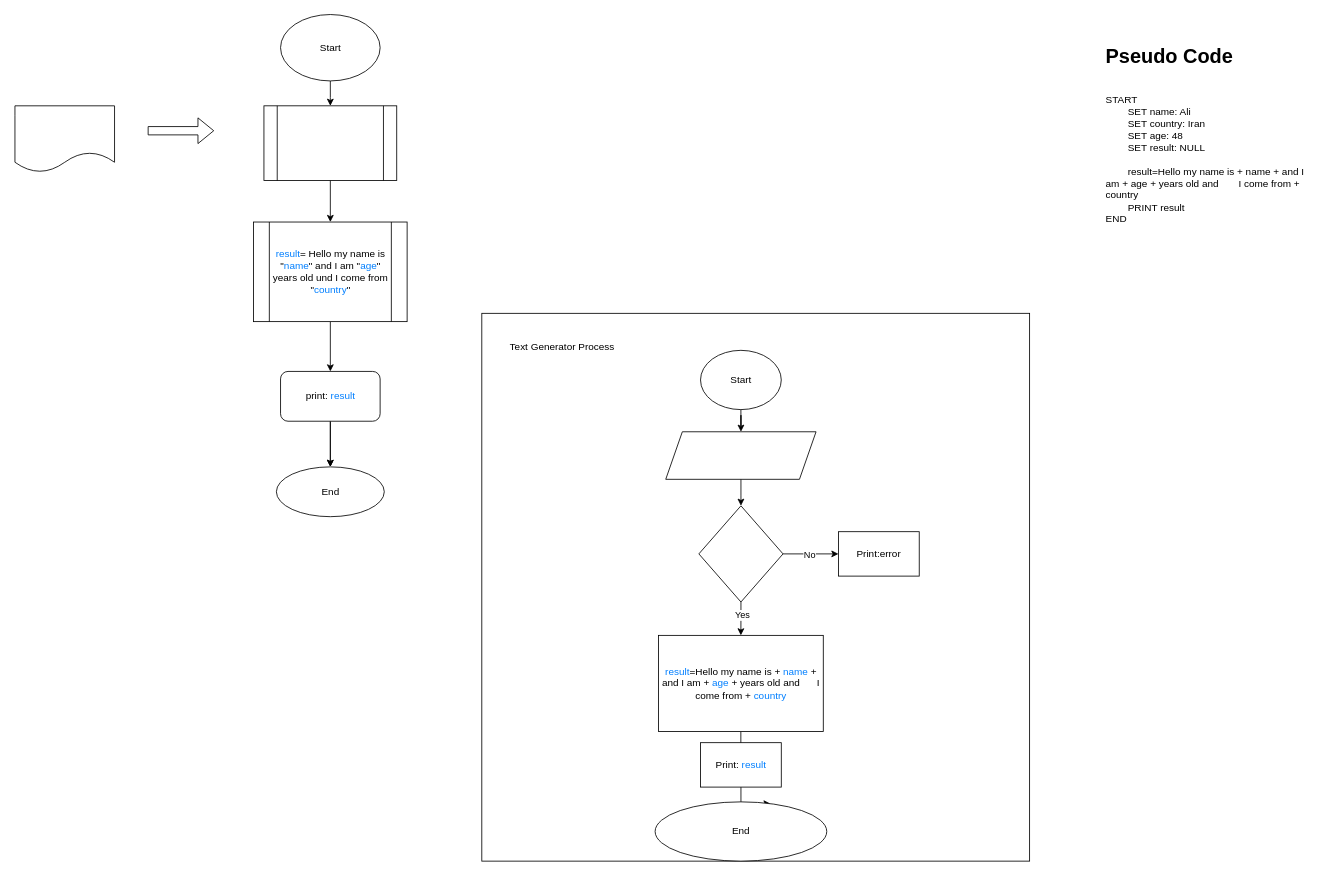
Image size: 1334x876. Some labels were removed from this diagram. Here are the shapes that lost their labels. From the top down, the box of each, then its label:
(14, 105, 115, 172): Process: means when your app shall do somehting itself
(263, 105, 397, 181): defined variablen: name :"Ali" country :"iran" age :"48" result : NULL
(665, 431, 816, 479): input: name, country, age
(698, 505, 783, 602): all input exists
